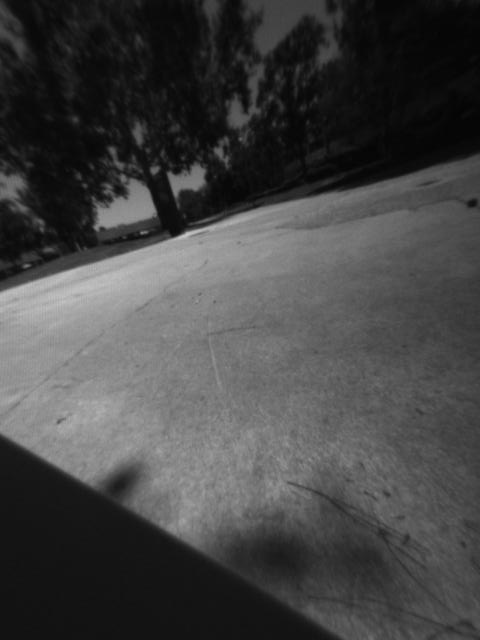dogtoy: (463, 192, 480, 213)
